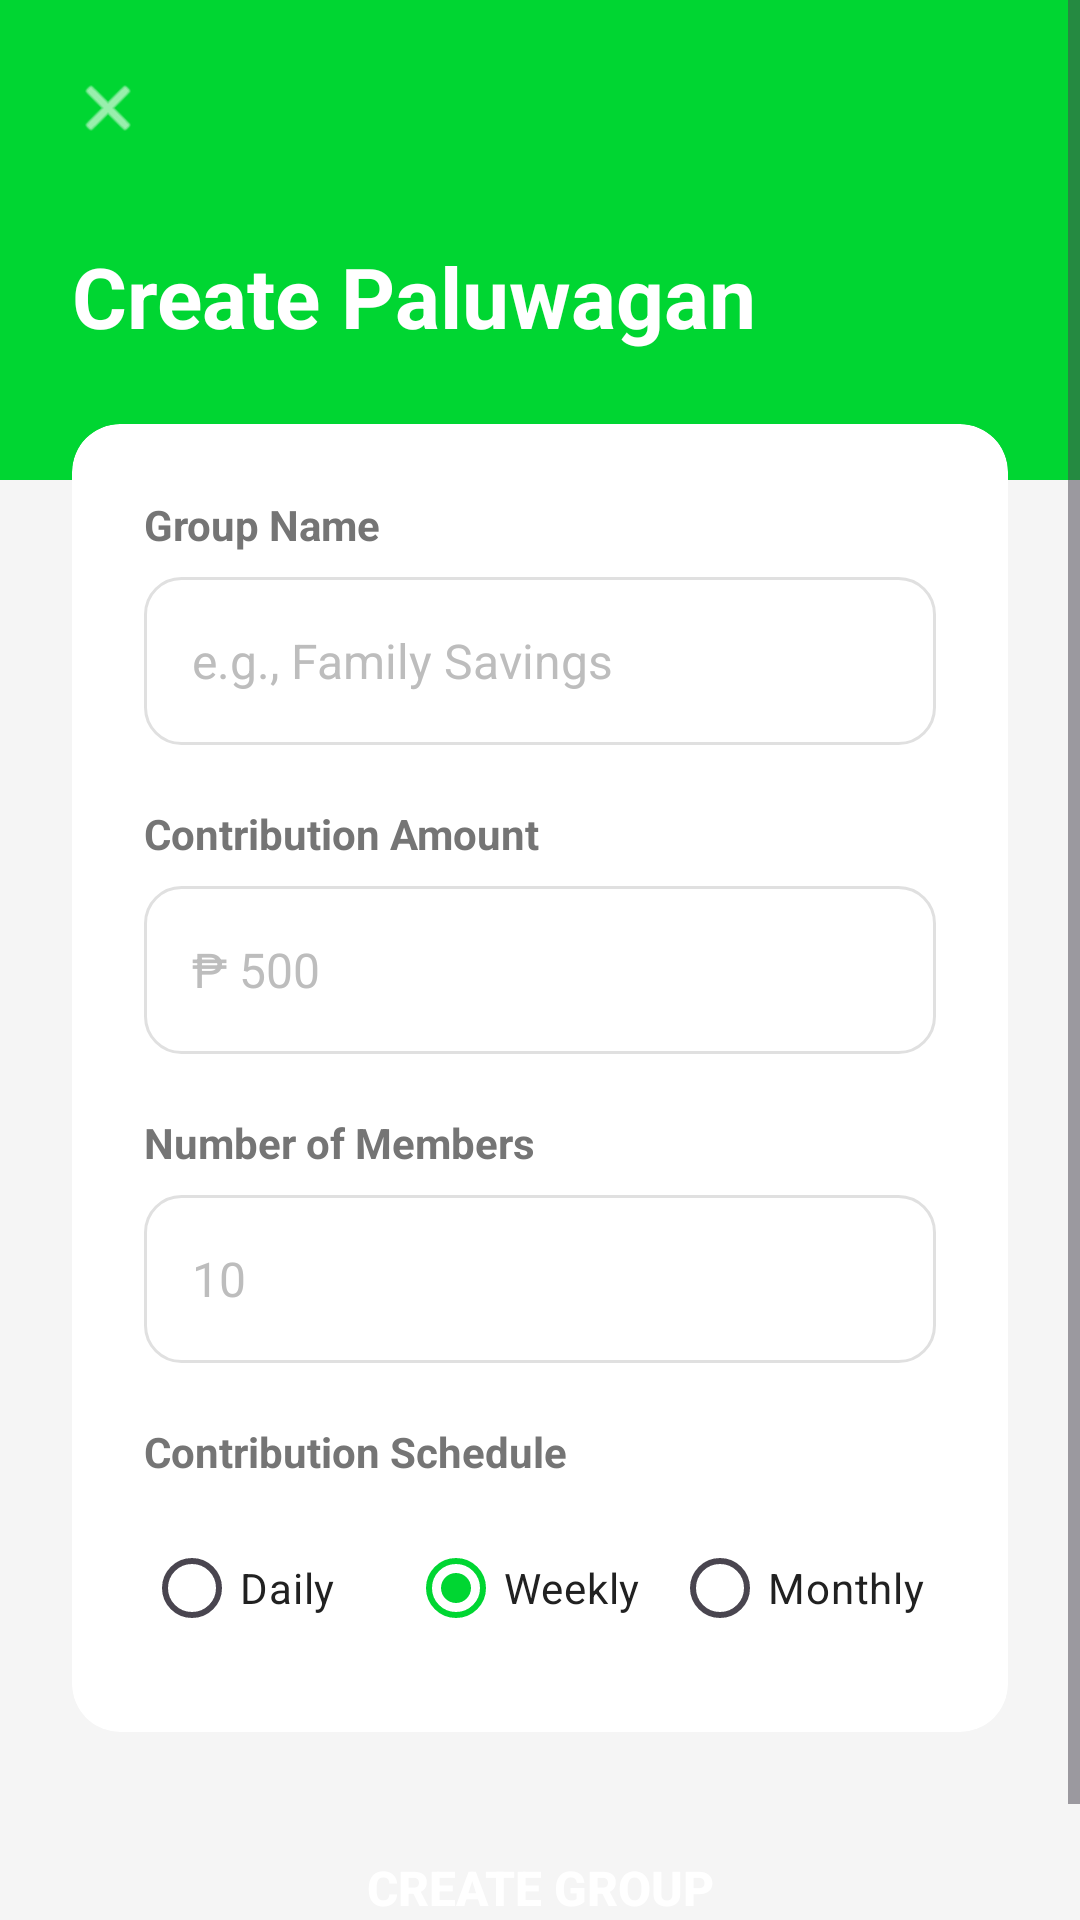

Icons on this 1080 x 1920 Android screen, each with its box as (x1=x1, y1=y1, x2=x2, y2=y2):
close clear cancel: (x1=85, y1=85, x2=131, y2=131)
